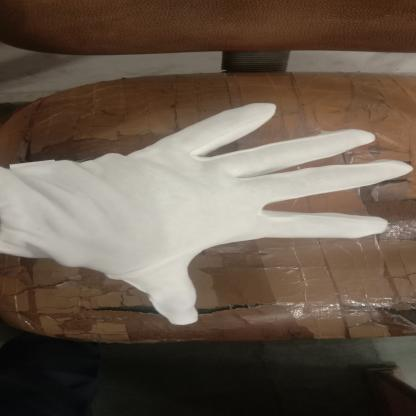gloved_hand: (0, 100, 412, 330)
